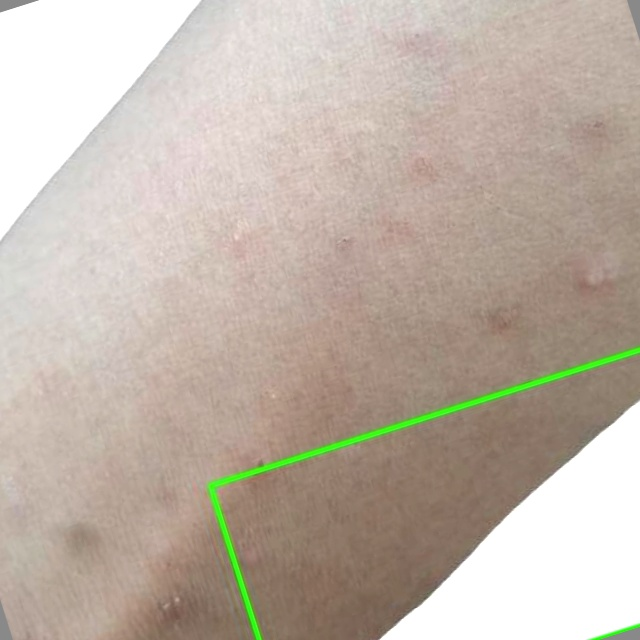Scabies: (210, 350, 639, 639)
